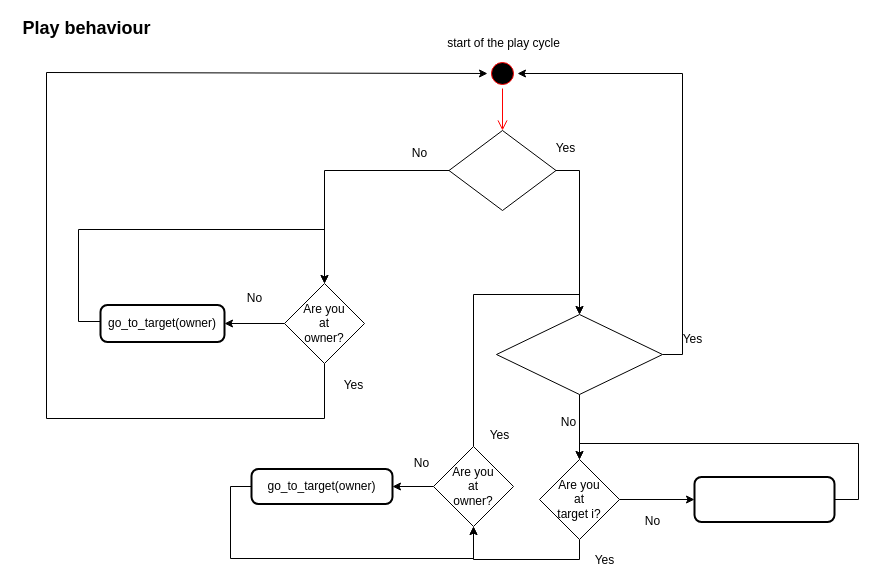
Some shapes in this 884 by 586 pixel diagram are drawn without their labels. Here are the shapes that lost their labels. From the top down, the box of each, then its label:
(448, 130, 556, 210): Command received?
(496, 314, 662, 394): for(i=1;i<=#commands;i++)
(693, 476, 835, 522): go_to_target(target i)
